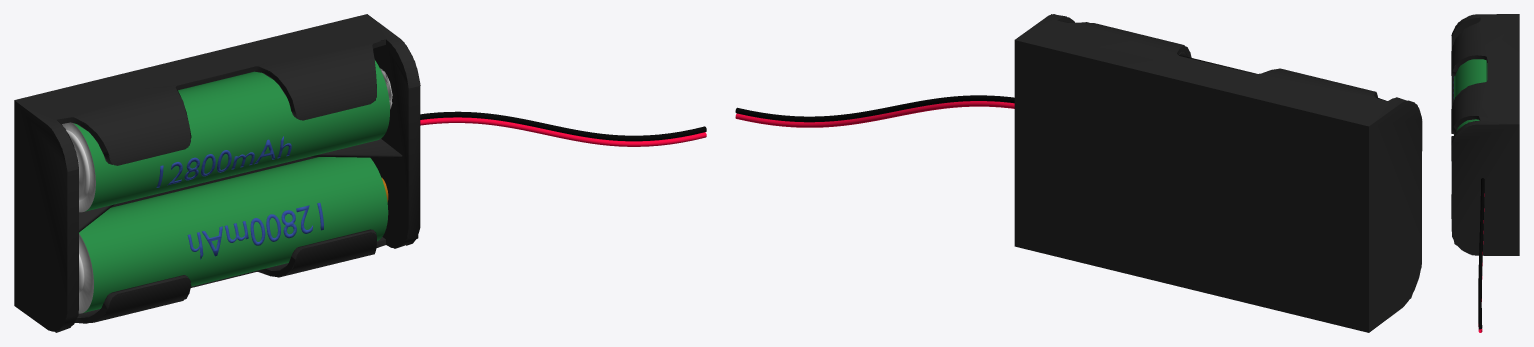
Rendered from Fonte.fbx.
3 views of the same model, side by side, from view 1: azimuth 30°, elevation 25°; view 2: azimuth 150°, elevation 25°; view 3: azimuth 270°, elevation 25° (orthographic). The views are drawn at different scales.
Parts seen in each view (by area): view 1: metall_001-material, object 2, Vermelho_001-material; view 2: metall_001-material, object 2, Vermelho_001-material; view 3: metall_001-material, object 2.
Boxes of the visible parts, box(x1,y1,x2,y2) form: metall_001-material: box(14, 14, 420, 332); object 2: box(420, 111, 706, 141); Vermelho_001-material: box(420, 117, 706, 146); metall_001-material: box(1014, 14, 1422, 332); object 2: box(735, 95, 1014, 122); Vermelho_001-material: box(735, 101, 1014, 127); metall_001-material: box(1451, 14, 1519, 255); object 2: box(1478, 178, 1484, 329).
Bounding box in the file's own units: 14.03 × 4.2 × 1.97.
